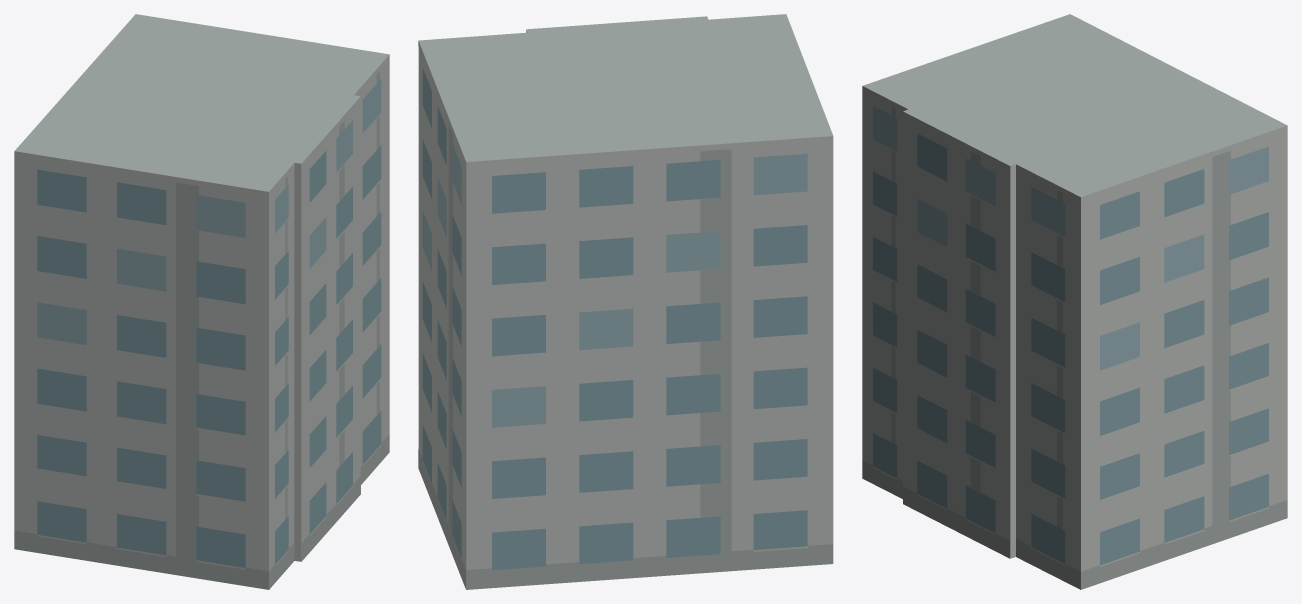
The model's file is survey-upis-33009256.glb.
3 views of the same model, side by side, from view 1: azimuth 30°, elevation 25°; view 2: azimuth 150°, elevation 25°; view 3: azimuth 270°, elevation 25° (orthographic). The views are drawn at different scales.
Visible parts, largest first — view 1: survey-upis-33009256.tmp; view 2: survey-upis-33009256.tmp; view 3: survey-upis-33009256.tmp.
Part boxes in pixels (x1,y1,x2,y2): survey-upis-33009256.tmp: (14, 14, 389, 589); survey-upis-33009256.tmp: (418, 14, 833, 589); survey-upis-33009256.tmp: (862, 14, 1287, 589).
Size of the model in its own units: 17.96 by 17.94 by 17.62.
